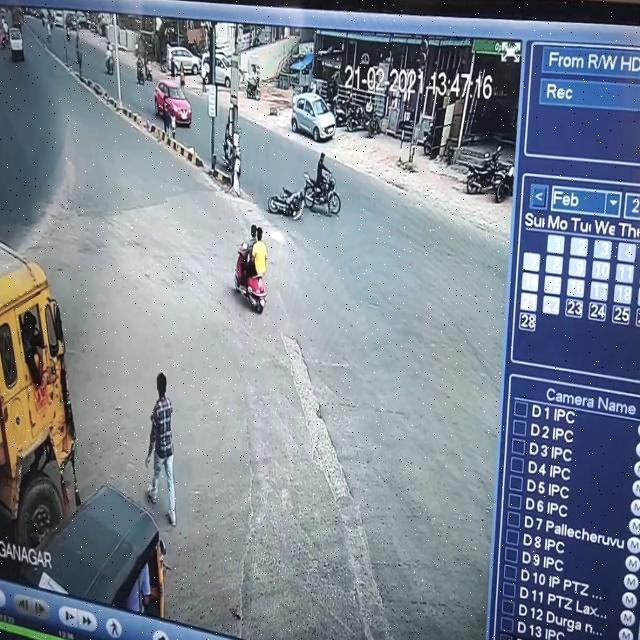accident: (263, 173, 324, 238)
